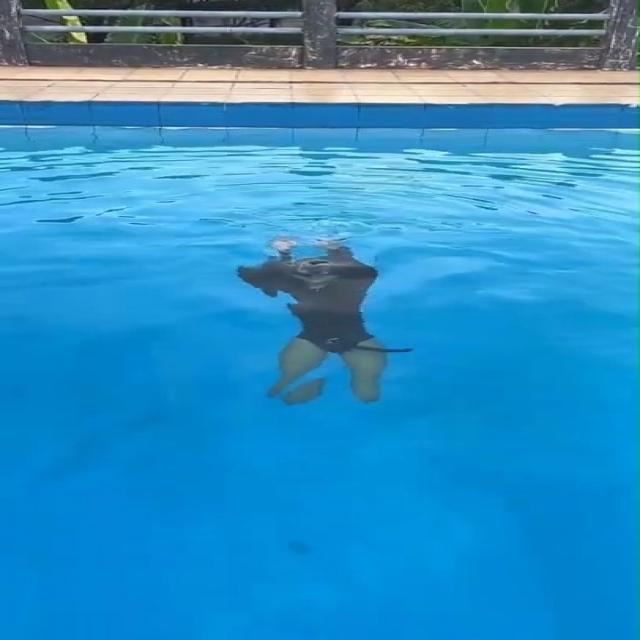drowning: (243, 238, 441, 412)
